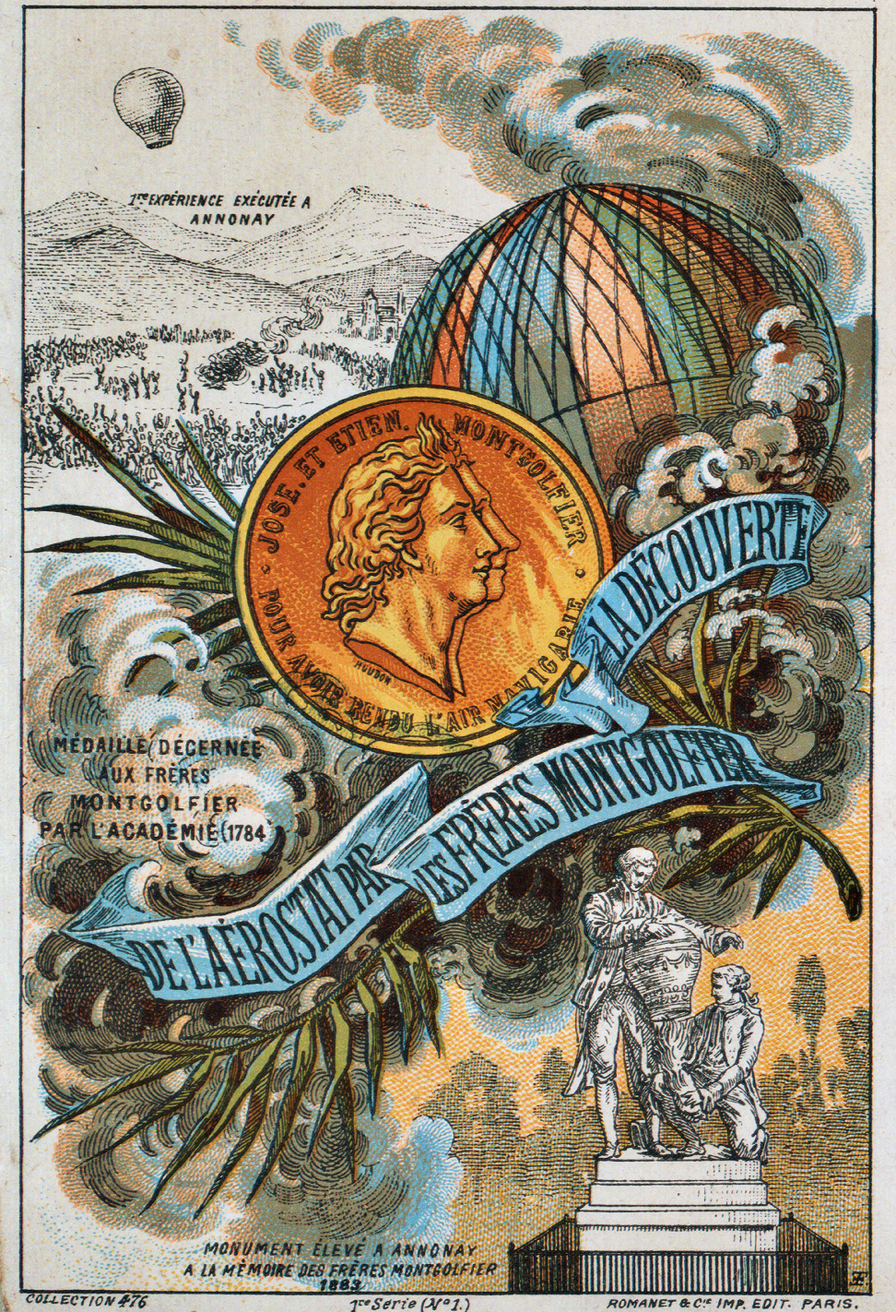balloon: (388, 173, 829, 506), (111, 64, 177, 154)
